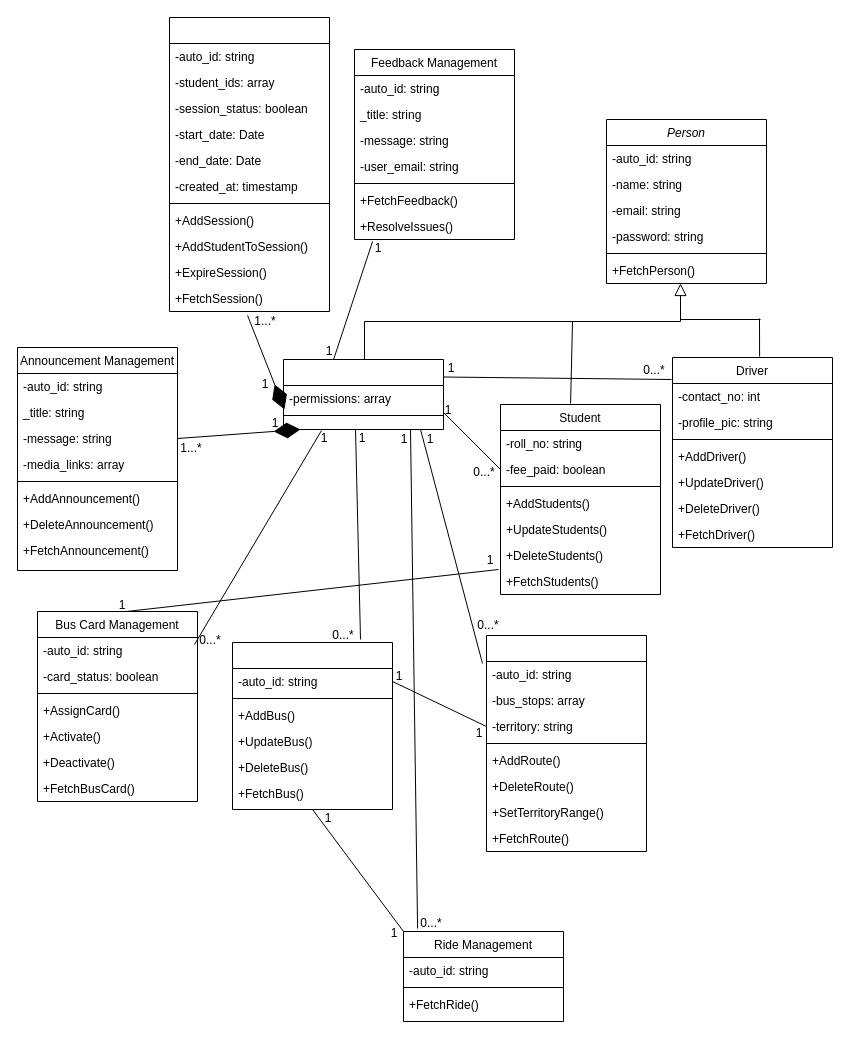
Some shapes in this 850 by 1039 pixel diagram are drawn without their labels. Here are the shapes that lost their labels. From the top down, the box of each, then its label:
(168, 16, 330, 312): Session Management
(282, 358, 444, 430): Admin
(232, 642, 392, 810): Bus Management
(486, 634, 646, 852): Route Management
